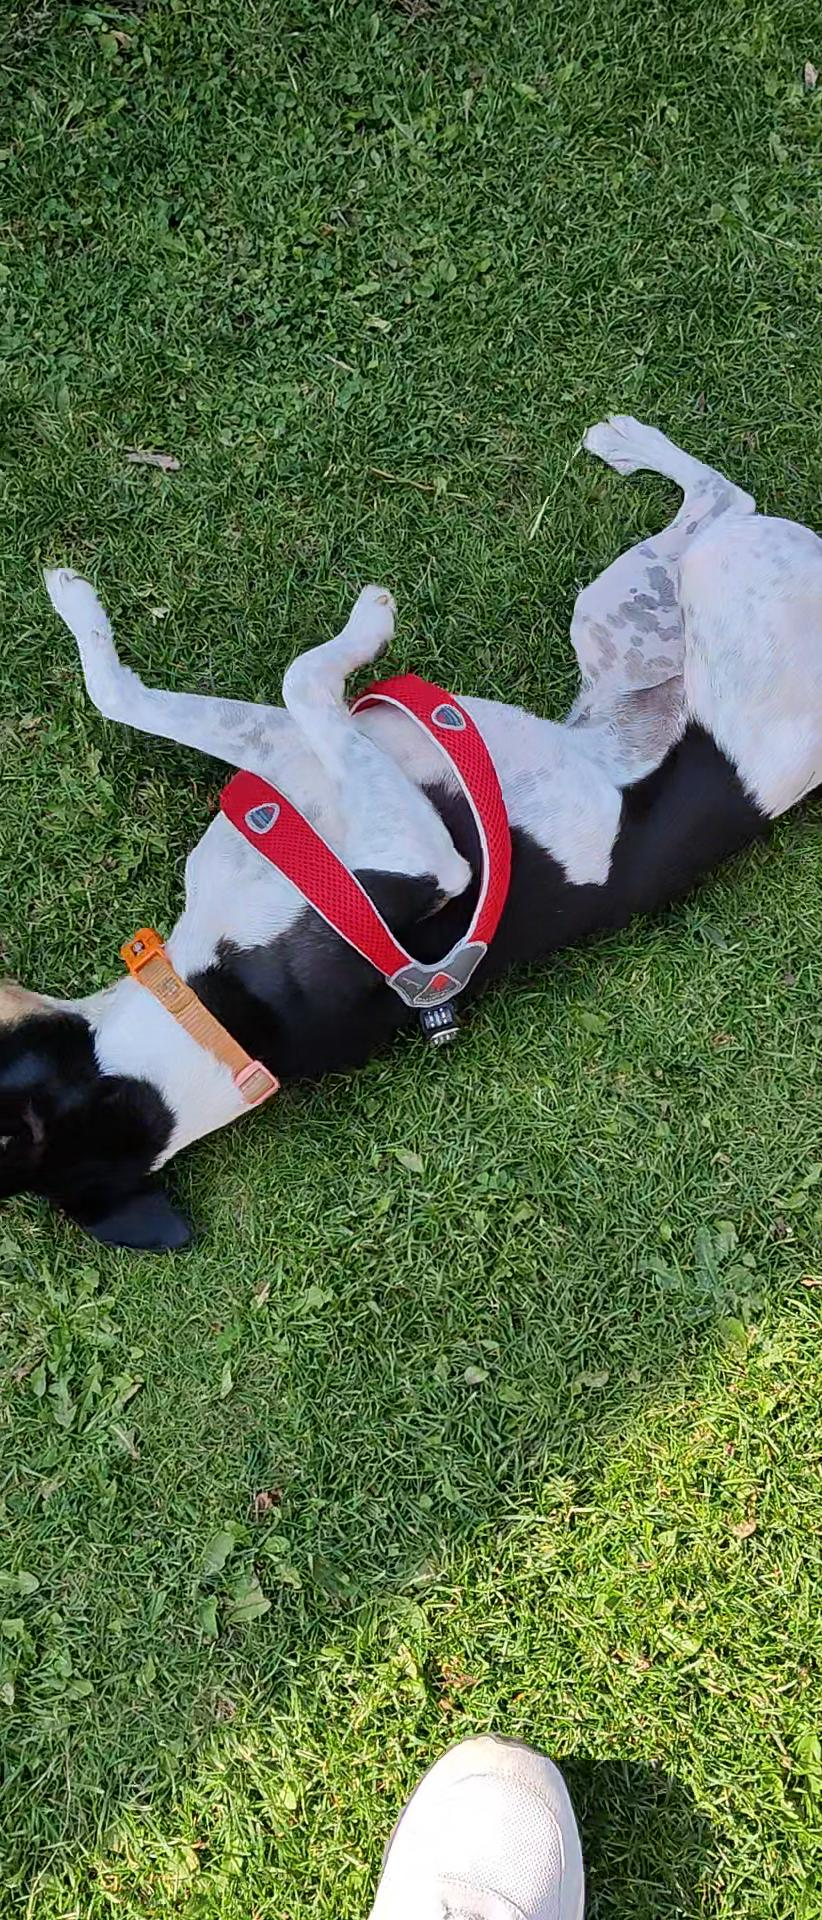Dog: (0, 400, 821, 1256)
